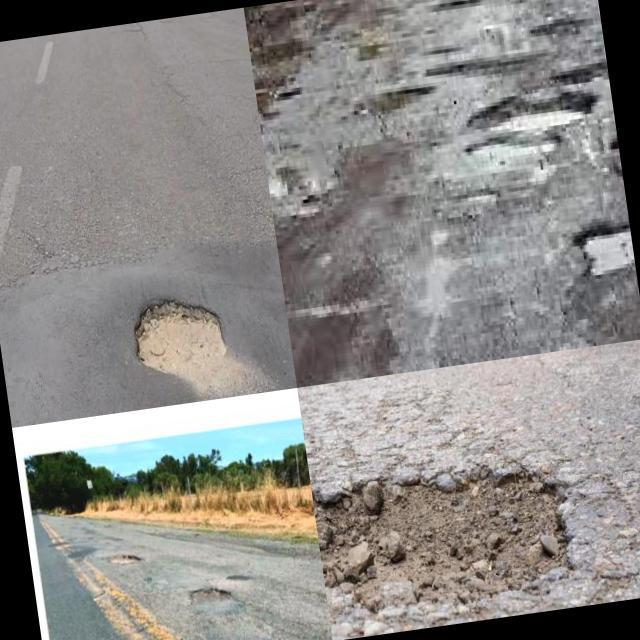Pothole: (313, 475, 567, 607), (131, 294, 230, 390), (569, 223, 637, 286)
